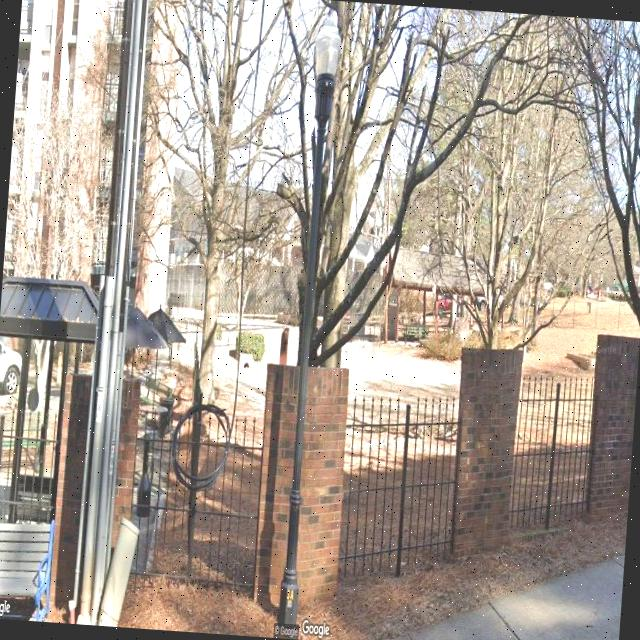seating: (0, 517, 55, 622)
shelter: (0, 272, 102, 621)
